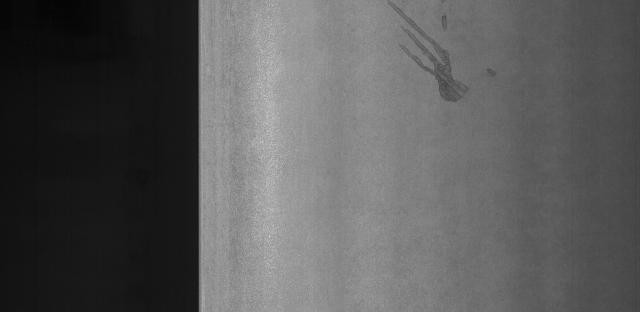water_spot: (369, 0, 504, 117)
